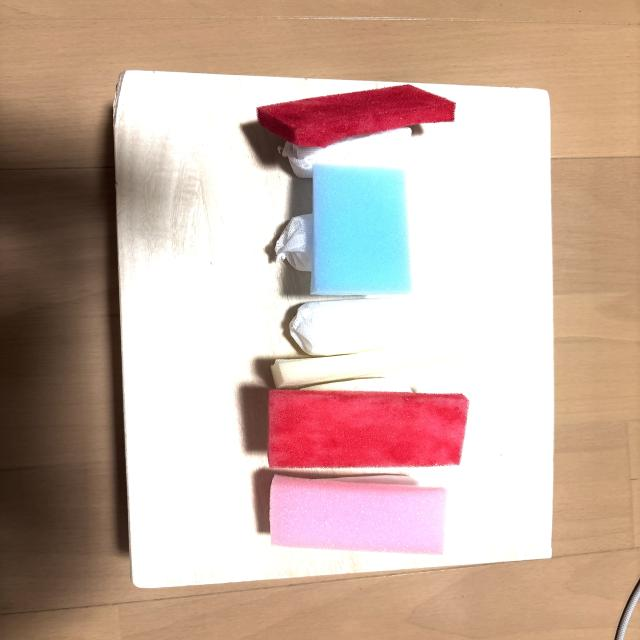NG: (257, 85, 455, 178), (276, 161, 412, 295), (271, 298, 462, 388)
maguro: (268, 379, 469, 468)
tai: (270, 475, 446, 554)
